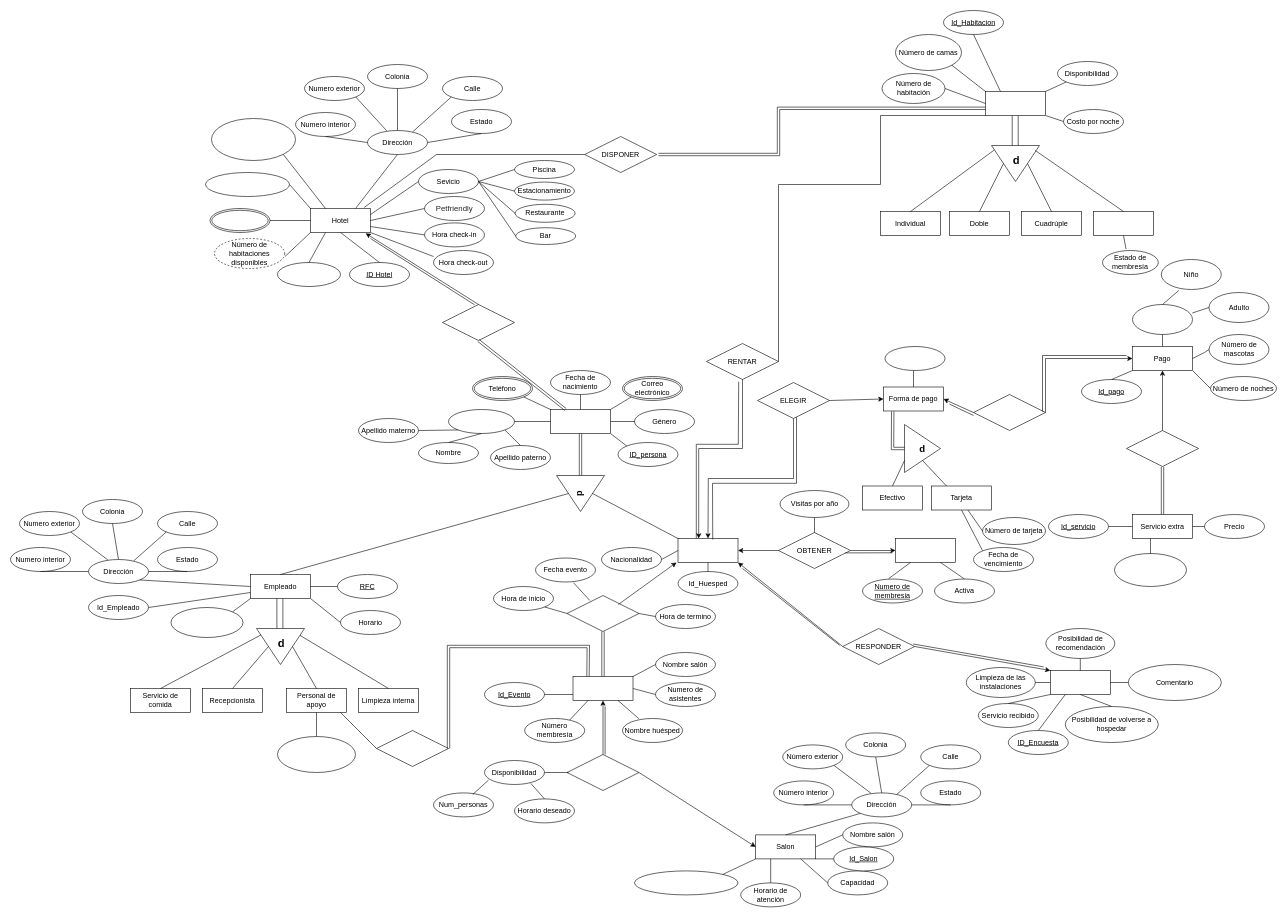
Image size: 1287x917. Some labels were removed from this diagram. The centre of each missing label's shape, as x and y in pixels:
"AGREGAR" goes at (1162,448).
"ATENDER" goes at (412,748).
"Encuesta" goes at (1080,682).
"Evento" goes at (602,688).
"Fecha contratación" goes at (206,622).
"Habitación" goes at (1015,103).
"Huésped" goes at (707,550).
"ID_forma" goes at (914,358).
"Membresia" goes at (925,550).
"Nombre Completo" goes at (481,421).
"Nombre establecimiento" goes at (247,184).
"Número de habitaciones a cargo" goes at (316,754).
"Número de habitaciones ocupadas" goes at (253,139).
"Número de huéspedes" goes at (1162,319).
"Número de platos" goes at (1150,569).
"Número total de habitaciones" goes at (308,274).
"Penthouse" goes at (1123,223).
"Persona" goes at (580,421).
"REALIZAR" goes at (1009,412).
"RESERVAR" goes at (602,613).
"RFC Personal de apoyo responsable" goes at (686,882).
"Telefono" goes at (239,220).
"TENER" goes at (478,322).
"VALIDAR" goes at (602,772).
